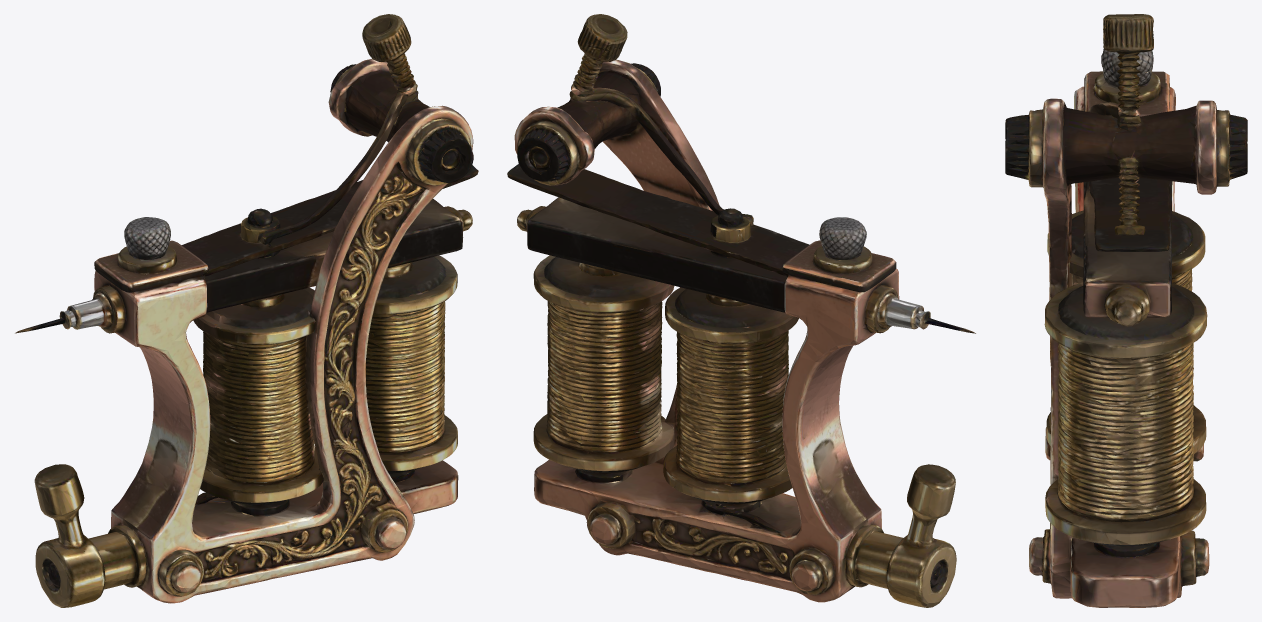
The model's file is victorian_tattoo_machine.glb.
3 views of the same model, side by side, from view 1: azimuth 30°, elevation 25°; view 2: azimuth 150°, elevation 25°; view 3: azimuth 270°, elevation 25° (orthographic). The views are drawn at different scales.
Parts seen in each view (by area): view 1: world; view 2: world; view 3: world.
Part boxes in pixels (left/top/right/bottom): world: left=15, top=14, right=478, bottom=607; world: left=507, top=14, right=975, bottom=607; world: left=1005, top=14, right=1247, bottom=607.
Size of the model in its own units: 1.86 by 1.99 by 0.7257.
1 material, 1 textured.
